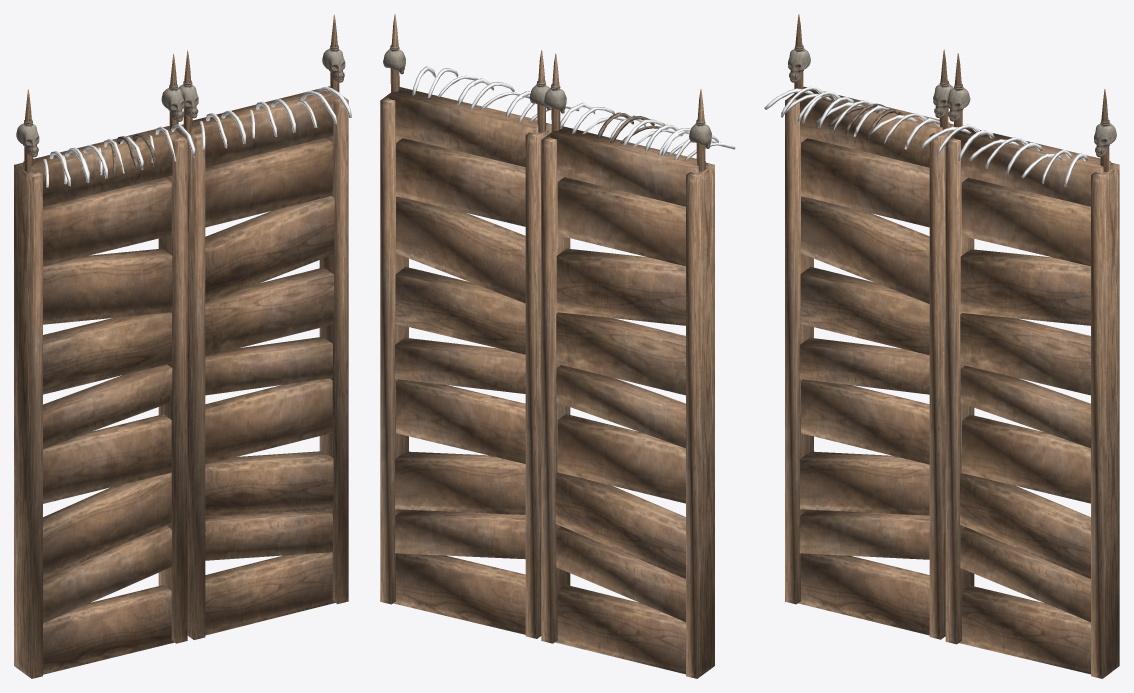
The model's file is porton3.fbx.
3 views of the same model, side by side, from view 1: azimuth 30°, elevation 25°; view 2: azimuth 150°, elevation 25°; view 3: azimuth 330°, elevation 25° (orthographic).
Visible parts, largest first — view 1: Housing_Wall_1A3, Housing_Wall_1A3.001, Skull_On_Post_1A6, Skull_On_Post_1A6.003, Skull_On_Post_1A6.001, Skull_On_Post_1A6.002; view 2: Housing_Wall_1A3, Housing_Wall_1A3.001, Skull_On_Post_1A6, Skull_On_Post_1A6.001, Skull_On_Post_1A6.003, Skull_On_Post_1A6.002, Meat_Bones_1A1_001.002, Meat_Bones_1A1.002; view 3: Housing_Wall_1A3.001, Housing_Wall_1A3, Skull_On_Post_1A6.003, Skull_On_Post_1A6, Skull_On_Post_1A6.002, Skull_On_Post_1A6.001, Meat_Bones_1A1, Meat_Bones_1A1_001.002, Meat_Bones_1A1.001, Meat_Bones_1A1.002, Meat_Bones_1A1_001.001, Meat_Bones_1A1.004.
Part boxes in pixels (x1=…): Housing_Wall_1A3: x1=14, y1=126, x2=187, y2=678; Housing_Wall_1A3.001: x1=178, y1=86, x2=348, y2=639; Skull_On_Post_1A6: x1=16, y1=89, x2=39, y2=171; Skull_On_Post_1A6.003: x1=322, y1=14, x2=345, y2=92; Skull_On_Post_1A6.001: x1=161, y1=54, x2=184, y2=132; Skull_On_Post_1A6.002: x1=178, y1=50, x2=198, y2=132; Housing_Wall_1A3: x1=541, y1=126, x2=714, y2=678; Housing_Wall_1A3.001: x1=380, y1=87, x2=551, y2=638; Skull_On_Post_1A6: x1=689, y1=89, x2=711, y2=171; Skull_On_Post_1A6.001: x1=544, y1=53, x2=566, y2=131; Skull_On_Post_1A6.003: x1=383, y1=14, x2=405, y2=91; Skull_On_Post_1A6.002: x1=529, y1=50, x2=550, y2=132; Meat_Bones_1A1_001.002: x1=560, y1=102, x2=632, y2=133; Meat_Bones_1A1.002: x1=597, y1=112, x2=667, y2=143; Housing_Wall_1A3.001: x1=945, y1=128, x2=1119, y2=678; Housing_Wall_1A3: x1=785, y1=86, x2=953, y2=639; Skull_On_Post_1A6.003: x1=1094, y1=89, x2=1116, y2=171; Skull_On_Post_1A6: x1=788, y1=14, x2=810, y2=93; Skull_On_Post_1A6.002: x1=947, y1=53, x2=970, y2=126; Skull_On_Post_1A6.001: x1=933, y1=49, x2=953, y2=132; Meat_Bones_1A1: x1=764, y1=86, x2=836, y2=123; Meat_Bones_1A1_001.002: x1=871, y1=113, x2=940, y2=149; Meat_Bones_1A1.001: x1=781, y1=91, x2=854, y2=127; Meat_Bones_1A1.002: x1=828, y1=103, x2=902, y2=139; Meat_Bones_1A1_001.001: x1=816, y1=100, x2=888, y2=136; Meat_Bones_1A1.004: x1=969, y1=137, x2=1042, y2=173.
Size of what is drawn, in the model's own units: 686 by 1184 by 154.
5 materials, 4 textured.
